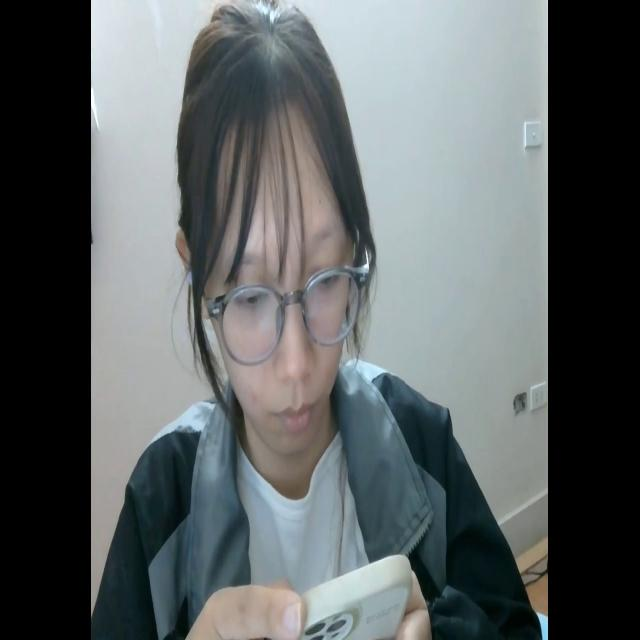phone: (263, 548, 417, 636)
student: (91, 0, 537, 640)
